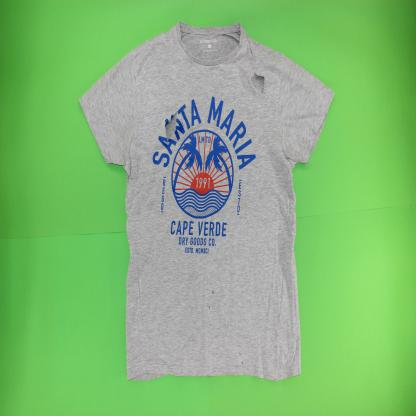hole: (164, 110, 178, 144), (250, 70, 266, 96)
